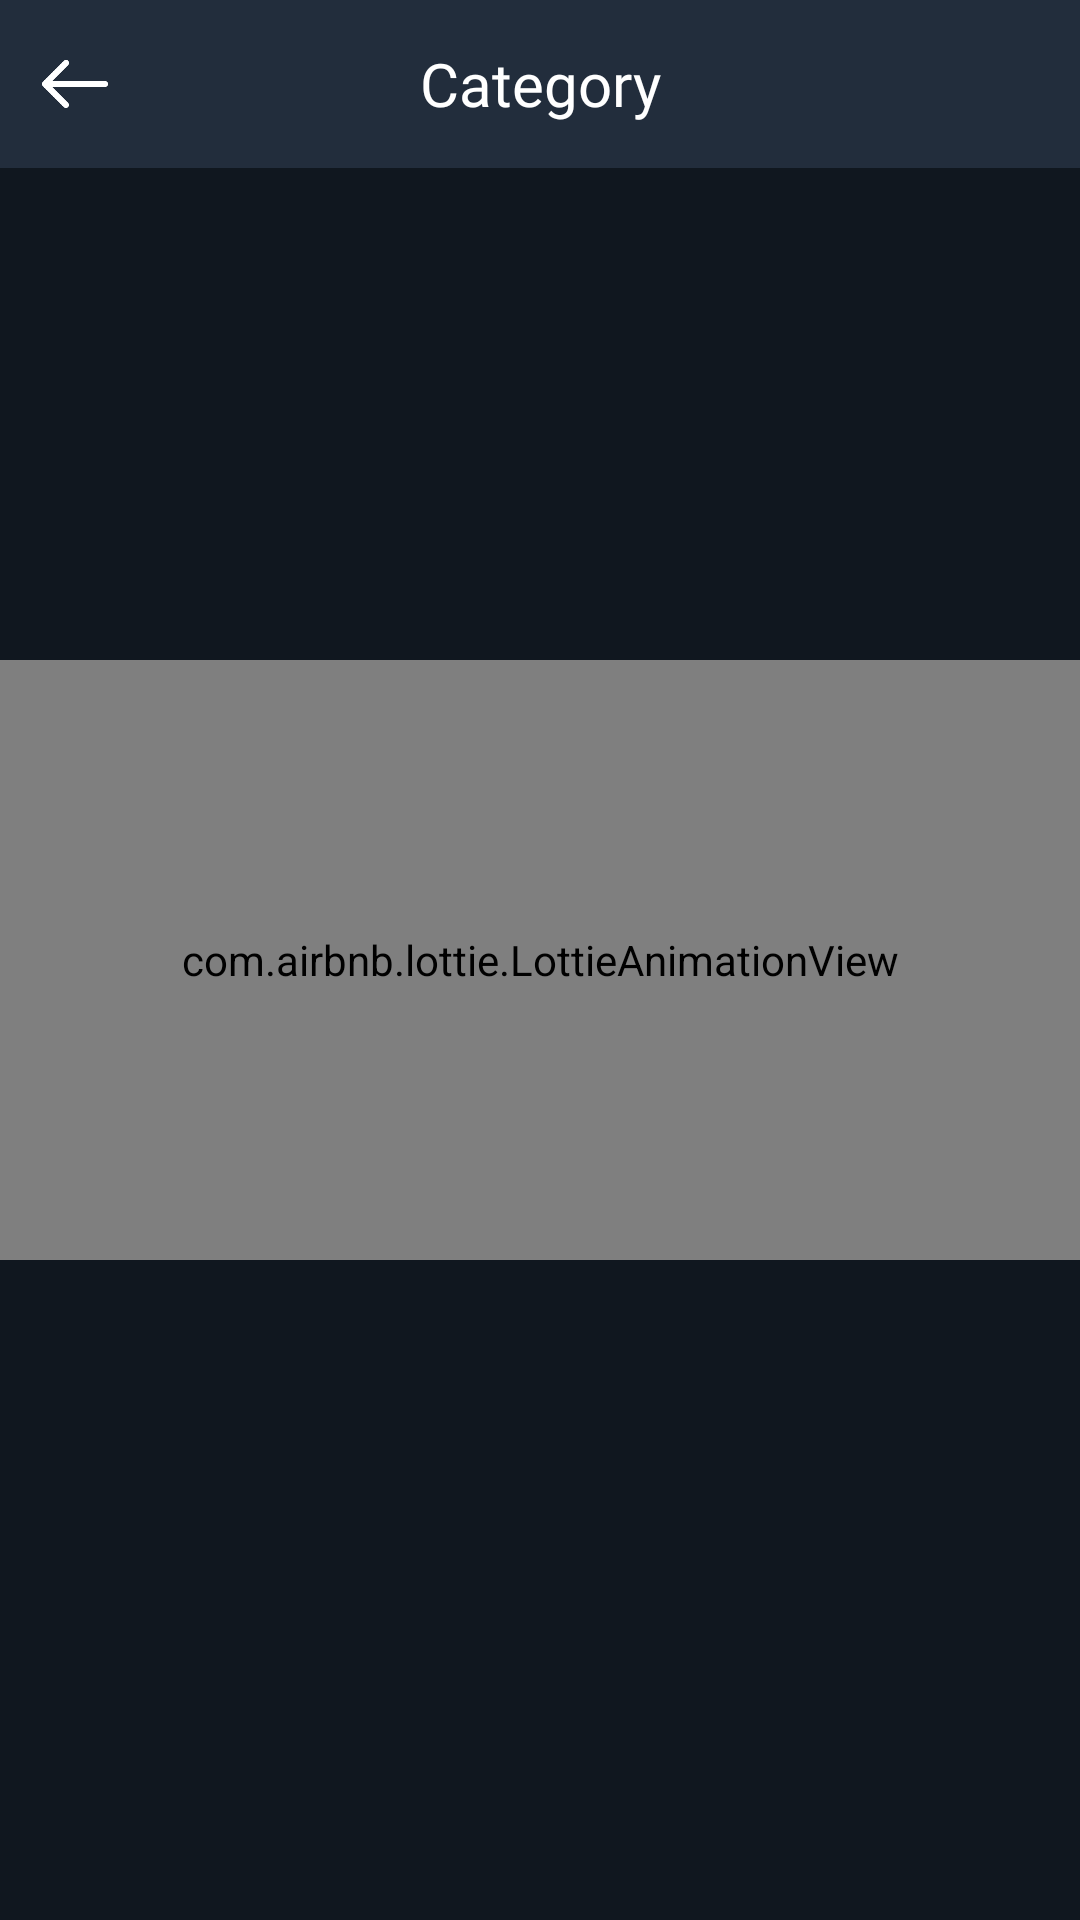

Icon bounding boxes for this 1080*1920 phone screenshot, format (x1, y1, x2, y2):
back: (42, 60, 108, 108)
